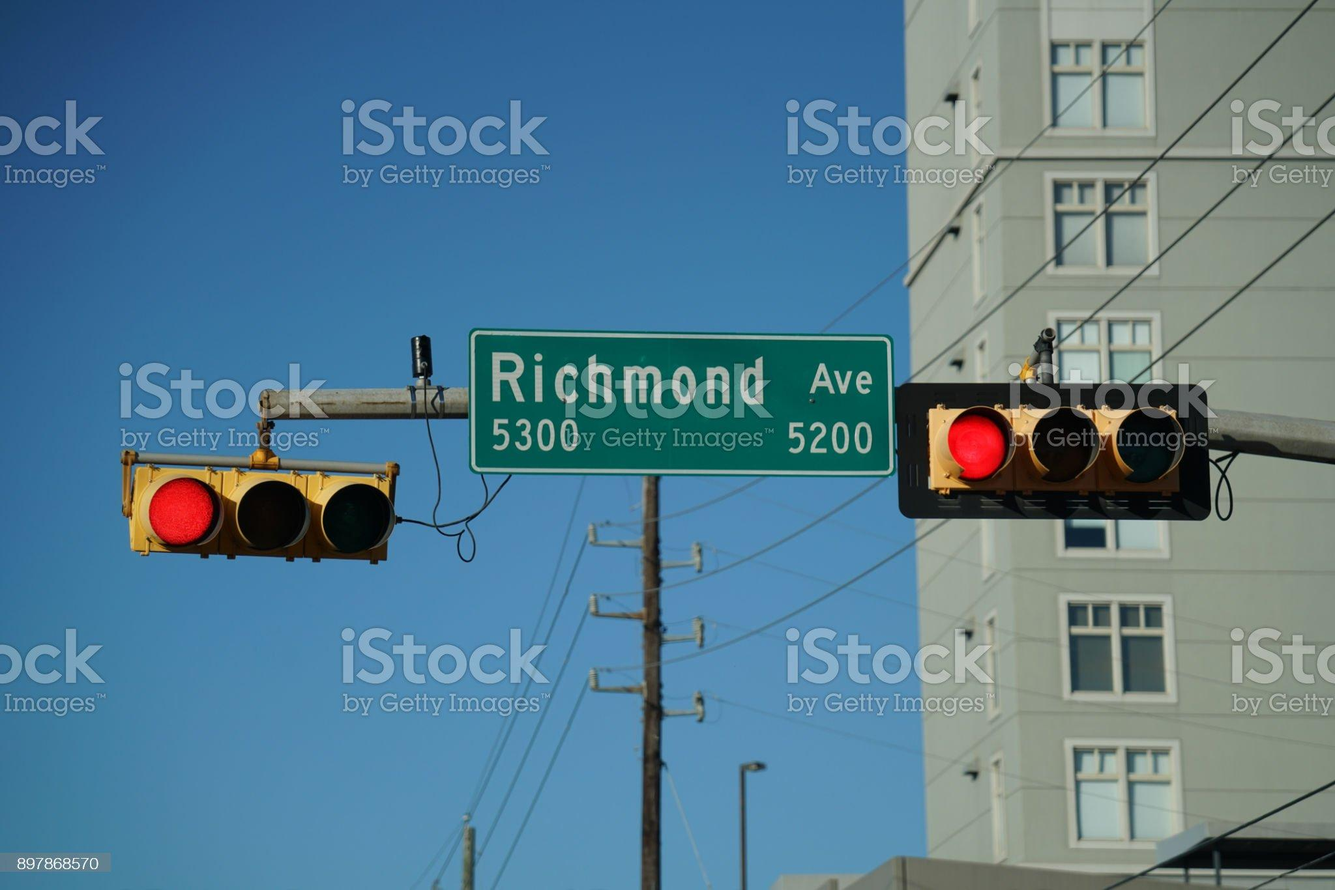red: (83, 434, 437, 602)
